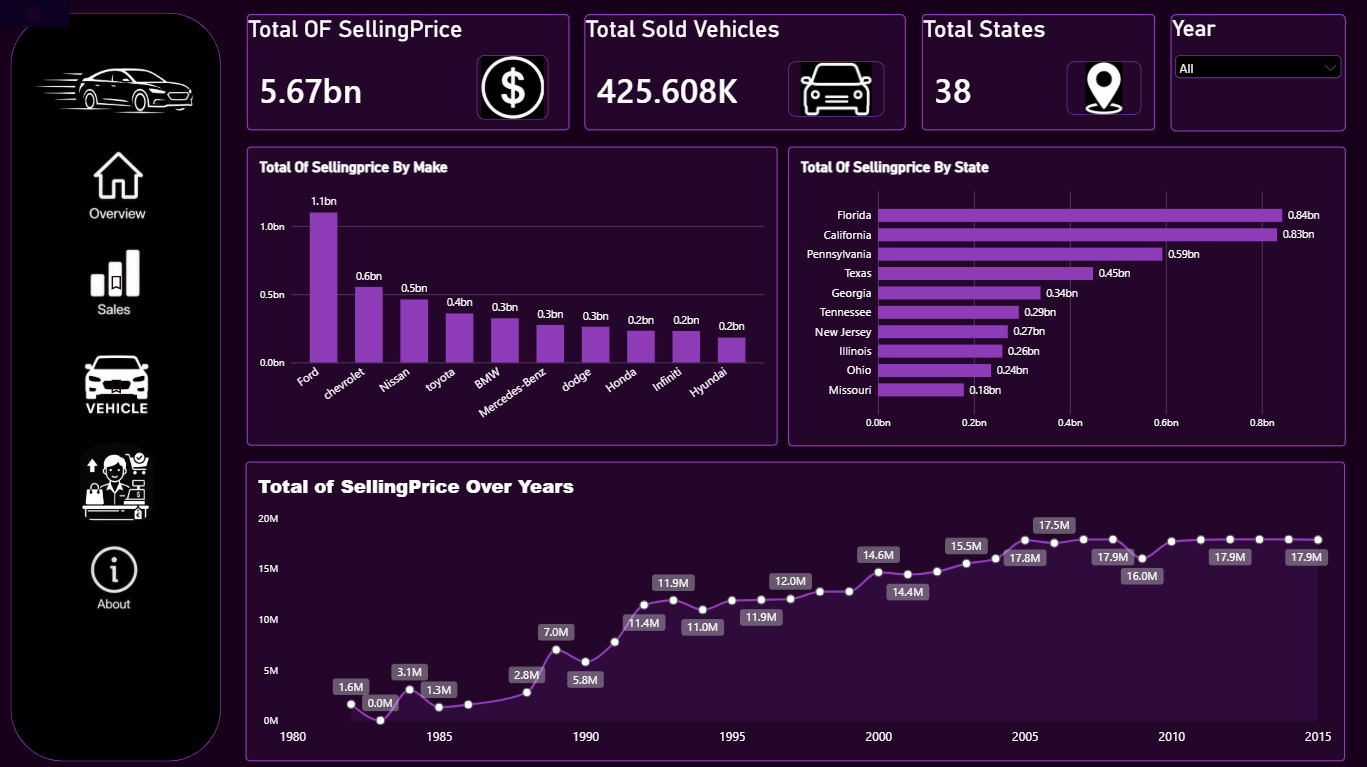

Layout of this report page (visuals, bound fields, positions):
{"tool":"powerbi","page":{"name":"Sales","canvas":[1920,1080],"ordinal":1},"visuals":[{"type":"lineChart","title":"Total of SellingPrice Over Years","fields":{"Category":["Dim_Date.saledate Hierarchy.year","Dim_Date.saledate Hierarchy.Quarter","Dim_Date.saledate Hierarchy.Month","Dim_Date.saledate Hierarchy.Day of Week"],"Y":["Sum(Fact_Car_Sales.sellingprice)"]},"box":[346,646,1534,418],"z":0},{"type":"clusteredColumnChart","title":"Total Of Sellingprice By Make","fields":{"Category":["Dim_Car.make"],"Y":["Sum(Fact_Car_Sales.sellingprice)"]},"box":[346.4,206.6,740.9,417.4],"z":1000},{"type":"clusteredBarChart","title":"Total Of Sellingprice By State","fields":{"Category":["Dim_Location.state"],"Y":["Sum(Fact_Car_Sales.sellingprice)"]},"box":[1102,206,778,418],"z":2000},{"type":"cardVisual","title":"Total OF SellingPrice","fields":{"Data":["Sum(Fact_Car_Sales.sellingprice)"]},"box":[346.4,20.9,450.8,162.8],"z":3000},{"type":"cardVisual","title":"Total States","fields":{"Data":["Count(Fact_Car_Sales.state)"]},"box":[1288.9,20.9,325.6,162.8],"z":4000},{"type":"slicer","title":"   Year","fields":{"Values":["Dim_Date.saledate Hierarchy.year"]},"box":[1636.2,21.3,244.7,163.8],"z":5000},{"type":"shape","box":[17,19.1,293.6,1044.7],"z":6000},{"type":"actionButton","box":[110.4,183.3,112.7,112.7],"z":7000},{"type":"actionButton","box":[100,369.8,100,128.3],"z":8000},{"type":"image","box":[36.2,68.1,259.6,112.8],"z":9000},{"type":"image","box":[110.6,206.4,126,110],"z":11000},{"type":"image","box":[100,336.2,130,124],"z":12000},{"type":"actionButton","box":[117,206.4,112.7,112.7],"z":13000},{"type":"actionButton","box":[114.9,331.9,100,128.3],"z":14000},{"type":"cardVisual","title":"Total Sold Vehicles ","fields":{"Data":["CountNonNull(Fact_Car_Sales.sellingprice)"]},"box":[818.7,21.3,448.7,162.8],"z":15000},{"type":"image","box":[80.9,491.5,170.2,97.9],"z":16000},{"type":"actionButton","box":[114.9,476.6,100,128.3],"z":17000},{"type":"image","box":[1491.5,87.2,104.3,74.5],"z":18000},{"type":"image","box":[1102.1,87.2,134,76.6],"z":19000},{"type":"image","box":[668.1,78.7,100,89.4],"z":20000},{"type":"actionButton","box":[0,0,100,40],"z":22000},{"type":"image","box":[92.3,759.6,148,104],"z":22001},{"type":"image","box":[100,619.2,130.8,115.4],"z":22002},{"type":"actionButton","box":[107.7,750,112.7,112.7],"z":22003},{"type":"actionButton","box":[111.5,621.2,113.5,113.5],"z":22004}]}

Visuals, with their boxes in screenshot pixels (x1, y1, x2, y2), scaled from the page's 1920x1080 canvas onto the 1367x767 screenshot:
"Total of SellingPrice Over Years" lineChart: [246,459,1339,756]
"Total Of Sellingprice By Make" clusteredColumnChart: [247,147,774,443]
"Total Of Sellingprice By State" clusteredBarChart: [785,146,1339,443]
"Total OF SellingPrice" cardVisual: [247,15,568,130]
"Total States" cardVisual: [918,15,1149,130]
"   Year" slicer: [1165,15,1339,131]
shape: [12,14,221,755]
actionButton: [79,130,159,210]
actionButton: [71,263,142,354]
image: [26,48,211,128]
image: [79,147,168,225]
image: [71,239,164,327]
actionButton: [83,147,164,227]
actionButton: [82,236,153,327]
"Total Sold Vehicles " cardVisual: [583,15,902,131]
image: [58,349,179,419]
actionButton: [82,338,153,430]
image: [1062,62,1136,115]
image: [785,62,880,116]
image: [476,56,547,119]
actionButton: [0,0,71,28]
image: [66,539,171,613]
image: [71,440,164,522]
actionButton: [77,533,157,613]
actionButton: [79,441,160,522]
